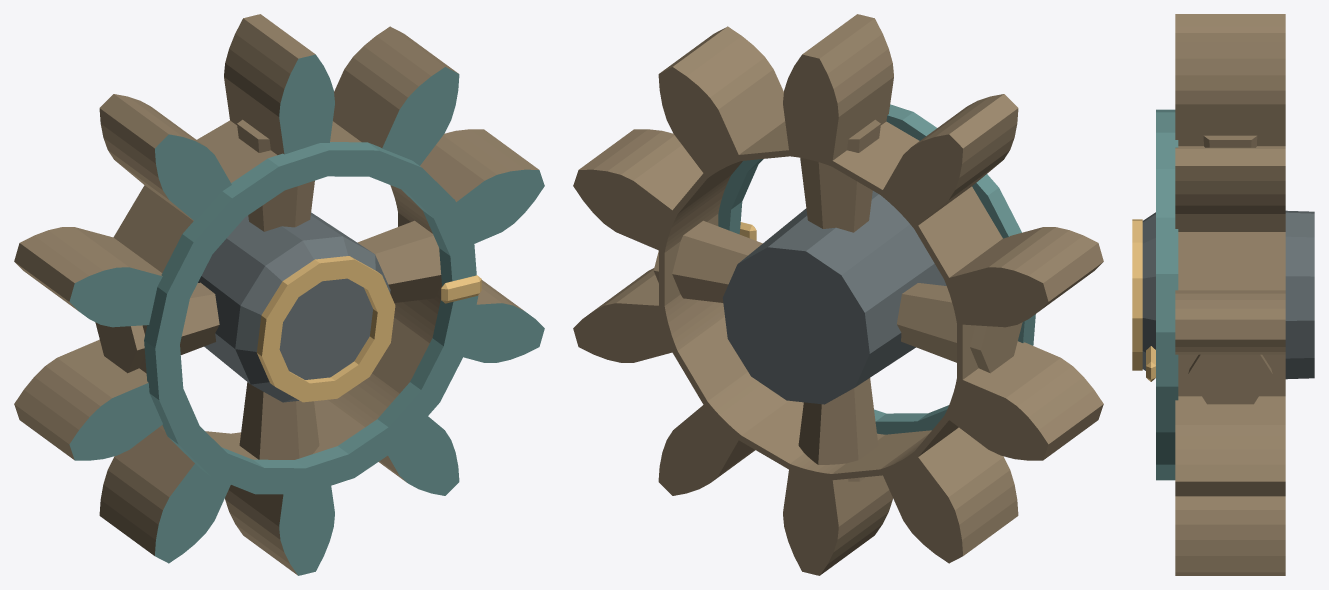
Rendered from roue_menee.glb.
3 renders of one model, left to right at view 1: azimuth 30°, elevation 25°; view 2: azimuth 150°, elevation 25°; view 3: azimuth 270°, elevation 25°, orthographic.
Visible parts, largest first — view 1: Denture.002, Épaulement.002, Moyeu graissé.002, Virole.002, Rayon.011, Rayon.008, Rayon.010, Rayon.009, Index du clavetage.002; view 2: Denture.002, Moyeu graissé.002, Épaulement.002, Rayon.010, Rayon.011, Rayon.008, Rayon.009; view 3: Denture.002, Épaulement.002, Moyeu graissé.002, Rayon.008, Virole.002, Rayon.009, Index du clavetage.002.
Boxes of the visible parts, bbox=[...] form: Denture.002: bbox=[14, 14, 544, 575]; Épaulement.002: bbox=[144, 142, 478, 494]; Moyeu graissé.002: bbox=[198, 212, 390, 402]; Virole.002: bbox=[256, 256, 395, 402]; Rayon.011: bbox=[239, 382, 319, 459]; Rayon.008: bbox=[357, 220, 441, 302]; Rayon.010: bbox=[95, 282, 219, 373]; Rayon.009: bbox=[237, 119, 314, 231]; Index du clavetage.002: bbox=[441, 275, 481, 303]; Denture.002: bbox=[573, 14, 1103, 575]; Moyeu graissé.002: bbox=[722, 191, 946, 404]; Épaulement.002: bbox=[718, 104, 1035, 434]; Rayon.010: bbox=[897, 283, 1022, 373]; Rayon.011: bbox=[798, 378, 878, 481]; Rayon.008: bbox=[653, 220, 762, 302]; Rayon.009: bbox=[800, 119, 880, 232]; Denture.002: bbox=[1175, 14, 1285, 575]; Épaulement.002: bbox=[1156, 109, 1178, 480]; Moyeu graissé.002: bbox=[1142, 210, 1314, 379]; Rayon.008: bbox=[1188, 354, 1272, 404]; Virole.002: bbox=[1132, 219, 1142, 370]; Rayon.009: bbox=[1203, 135, 1257, 147]; Index du clavetage.002: bbox=[1146, 346, 1155, 381].
Bounding box in the file's own units: 0.9037 × 0.9394 × 0.301.
